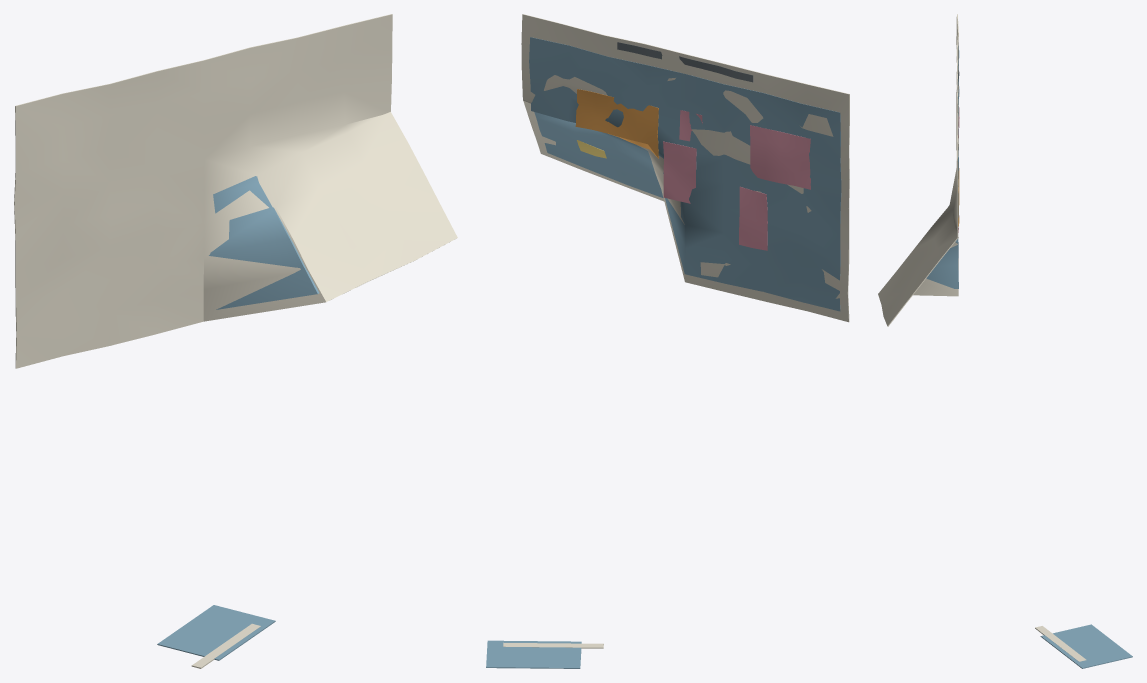
File: world_map_broken.fbx
3 views of the same model, side by side, from view 1: azimuth 30°, elevation 25°; view 2: azimuth 150°, elevation 25°; view 3: azimuth 270°, elevation 25° (orthographic). The views are drawn at different scales.
Parts seen in each view (by area): view 1: world_map_broken, world_map_broken_debris; view 2: world_map_broken, world_map_broken_debris; view 3: world_map_broken, world_map_broken_debris.
Part boxes in pixels (box(x1,y1,x2,y2)): world_map_broken: box(14, 14, 457, 368); world_map_broken_debris: box(157, 605, 275, 668); world_map_broken: box(521, 14, 849, 322); world_map_broken_debris: box(486, 640, 603, 668); world_map_broken: box(878, 14, 959, 326); world_map_broken_debris: box(1035, 624, 1132, 668).
Size of the model in its own units: 127 by 200 by 88.34.
